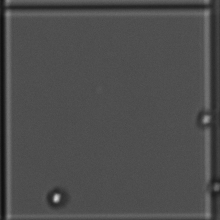Living Cell: (43, 186, 69, 209), (194, 107, 215, 129)
